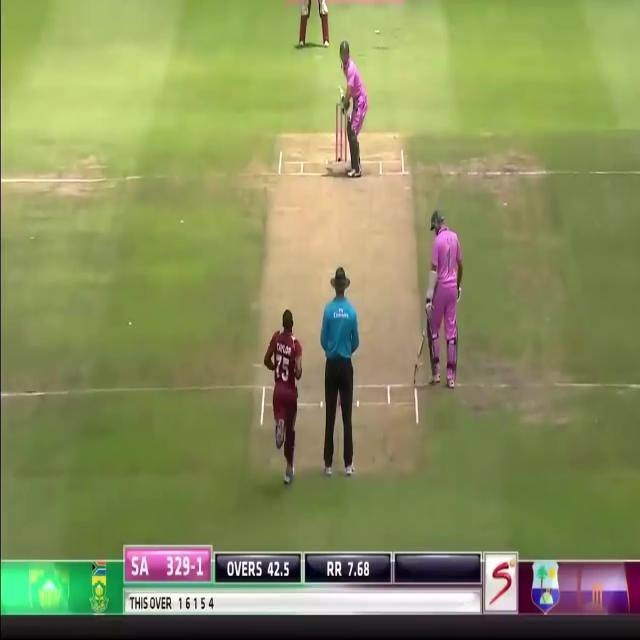Ball: (424, 204, 464, 388), (335, 40, 368, 177)
Fielder: (263, 310, 304, 479), (299, 0, 330, 46)
Umpire: (320, 264, 359, 482)
